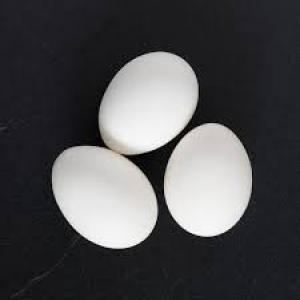Egg: (50, 144, 158, 251), (98, 49, 199, 157), (164, 123, 254, 236)
